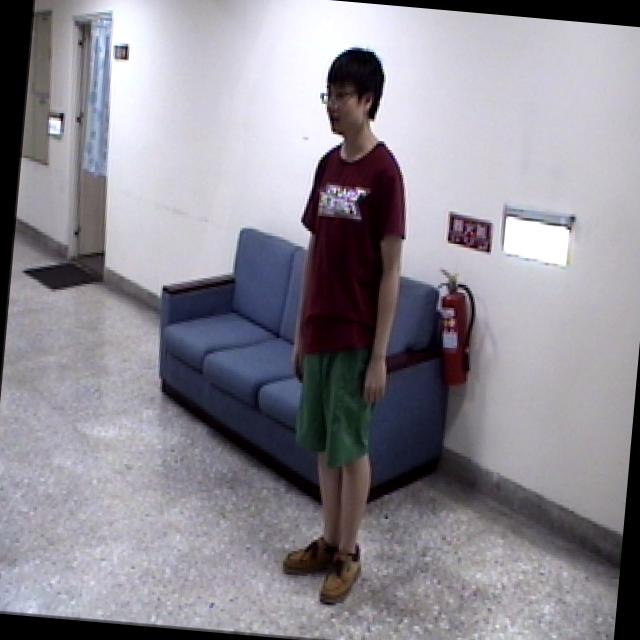stand: (253, 39, 438, 622)
